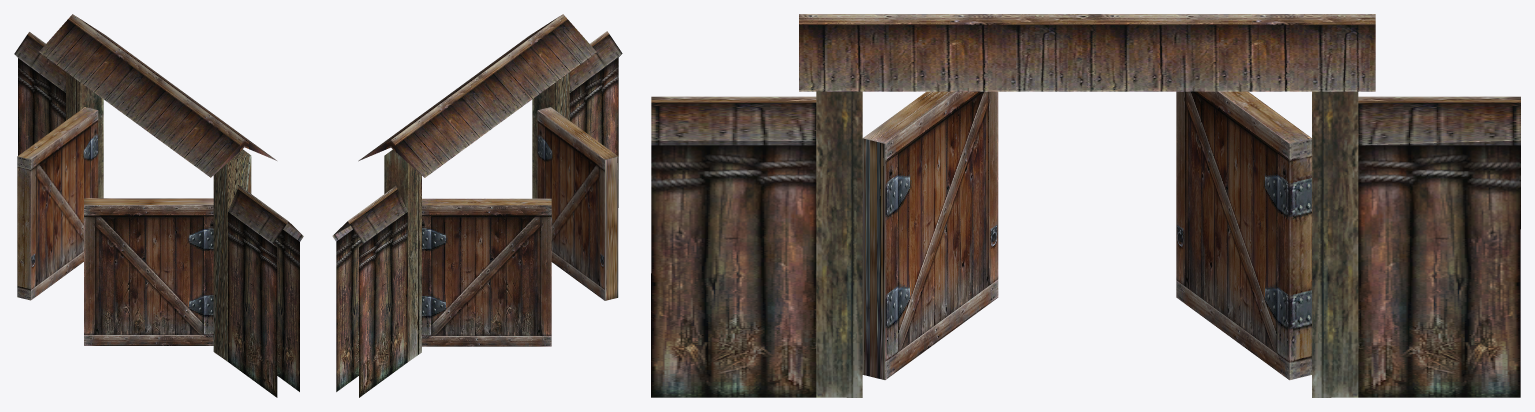
Rendered from mhouse20g.glb.
The picture shows the model from 3 angles, left to right: view 1: azimuth 30°, elevation 25°; view 2: azimuth 150°, elevation 25°; view 3: azimuth 270°, elevation 25°; orthographic projection. The views are drawn at different scales.
Parts seen in each view (by area): view 1: mhouse20g-col; view 2: mhouse20g-col; view 3: mhouse20g-col.
Part boxes in pixels (x1,y1,x2,y2): mhouse20g-col: (14,14,303,397); mhouse20g-col: (332,14,622,397); mhouse20g-col: (651,14,1520,397).
Size of the model in its own units: 3.15 by 4.75 by 10.
7 materials, 7 textured.
